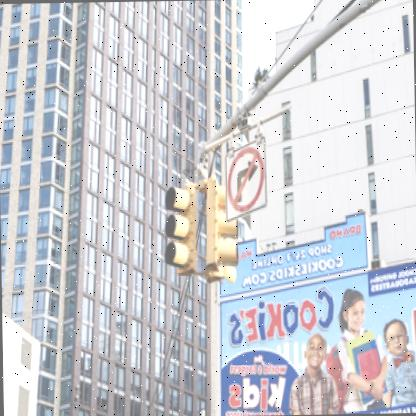trafficlight: (206, 174, 244, 280), (164, 177, 200, 279)
